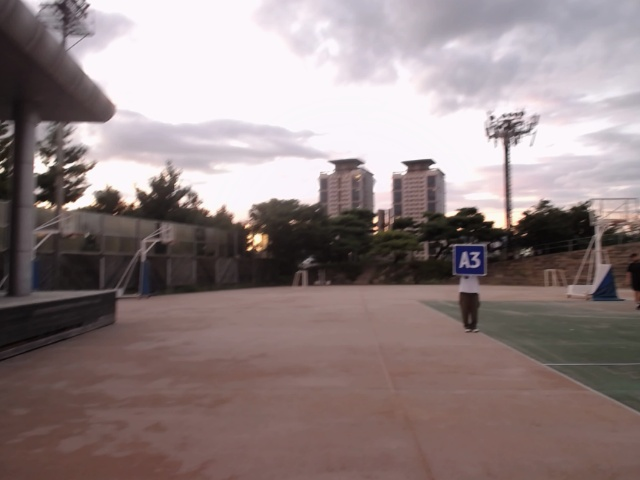delivery_a3: (454, 244, 485, 275)
